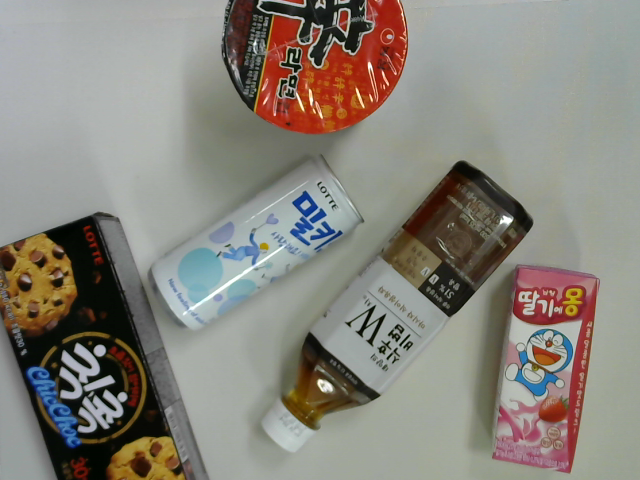Chicchok_Original_2400: (1, 212, 210, 480)
Milkies_250ml: (148, 155, 366, 332)
Post-meal_recipe_W_tea_500ml: (259, 160, 535, 455)
Sinramen_small: (218, 1, 411, 137)
Strawberry_E_Mong: (492, 264, 601, 477)
